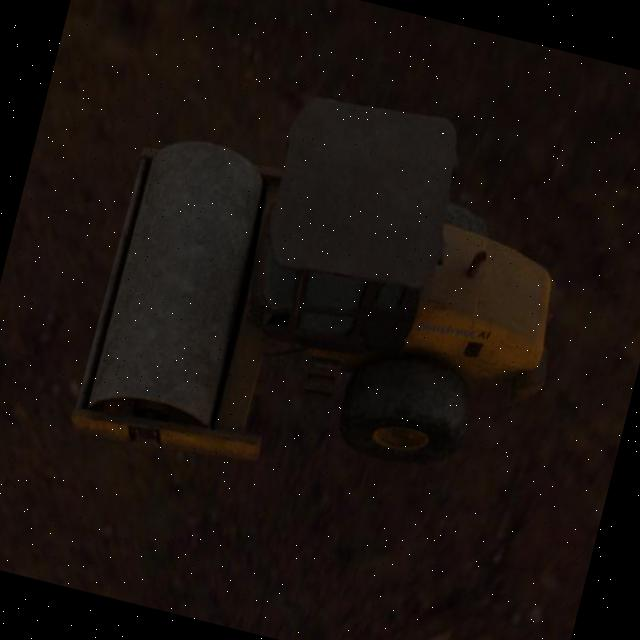Roller: (67, 46, 601, 538)
